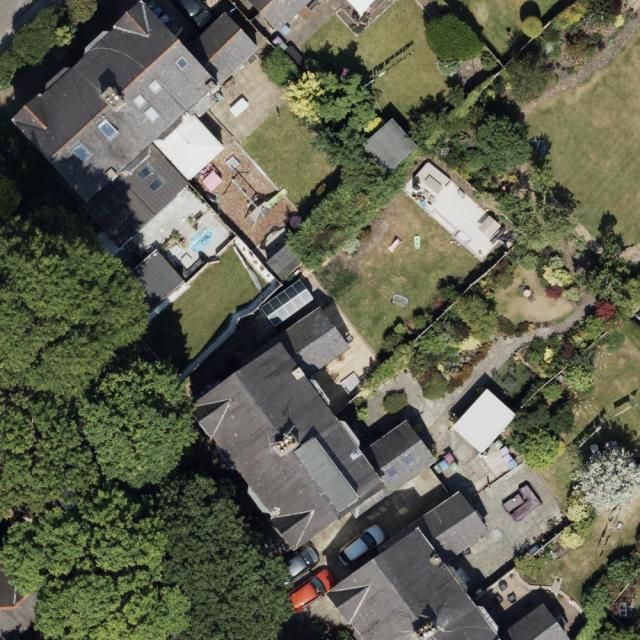roof: (11, 0, 260, 250), (188, 306, 438, 551), (327, 491, 571, 640), (1, 567, 45, 640), (246, 0, 311, 31)
skylight: (95, 116, 123, 143), (69, 138, 94, 163), (99, 195, 122, 213), (142, 104, 162, 124), (137, 163, 156, 184), (146, 177, 168, 195), (145, 77, 165, 96), (113, 206, 133, 224), (131, 91, 148, 108), (173, 55, 189, 68), (386, 467, 401, 480), (401, 454, 416, 466)
